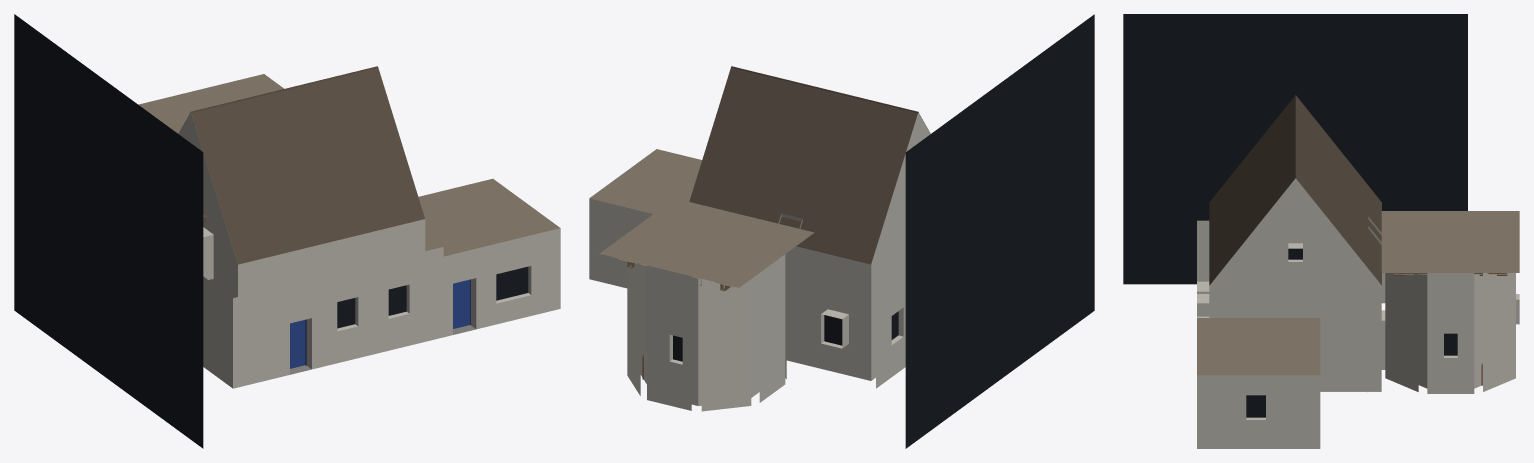
The model's file is alchimist_innen.glb.
3 views of the same model, side by side, from view 1: azimuth 30°, elevation 25°; view 2: azimuth 150°, elevation 25°; view 3: azimuth 270°, elevation 25° (orthographic). The views are drawn at different scales.
Visible parts, largest first — view 1: Himmel_Lager, Decke_Lager, Raum_Werk, Raum_Laden, Raum_Lager, Decke_Laden, Decke_Turm, Holztuer; view 2: Himmel_Lager, Decke_Lager, Raum_Turm, Decke_Turm, Raum_Werk, Raum_Lager, Decke_Laden, Raum_Laden; view 3: Himmel_Lager, Raum_Turm, Raum_Lager, Decke_Lager, Raum_Laden, Decke_Turm, Decke_Laden, Raum_Werk.
Boxes of the visible parts, x1,y1,x2,y2 form: Himmel_Lager: [14, 14, 203, 448]; Decke_Lager: [178, 66, 424, 264]; Raum_Werk: [203, 247, 443, 388]; Raum_Laden: [443, 228, 560, 337]; Raum_Lager: [178, 112, 425, 296]; Decke_Laden: [418, 178, 559, 256]; Decke_Turm: [138, 74, 284, 133]; Holztuer: [290, 319, 306, 368]; Himmel_Lager: [905, 14, 1094, 448]; Decke_Lager: [689, 66, 928, 264]; Raum_Turm: [627, 253, 786, 411]; Decke_Turm: [599, 198, 814, 291]; Raum_Werk: [786, 273, 905, 388]; Raum_Lager: [778, 112, 930, 297]; Decke_Laden: [589, 149, 701, 213]; Raum_Laden: [589, 198, 652, 288]; Himmel_Lager: [1123, 14, 1467, 284]; Raum_Turm: [1385, 273, 1519, 393]; Raum_Lager: [1209, 178, 1381, 315]; Decke_Lager: [1209, 95, 1381, 285]; Raum_Laden: [1197, 375, 1320, 448]; Decke_Turm: [1381, 211, 1519, 275]; Decke_Laden: [1197, 318, 1320, 375]; Raum_Werk: [1197, 220, 1385, 391].
Bounding box in the file's own units: 17 × 12.12 × 16.1.
